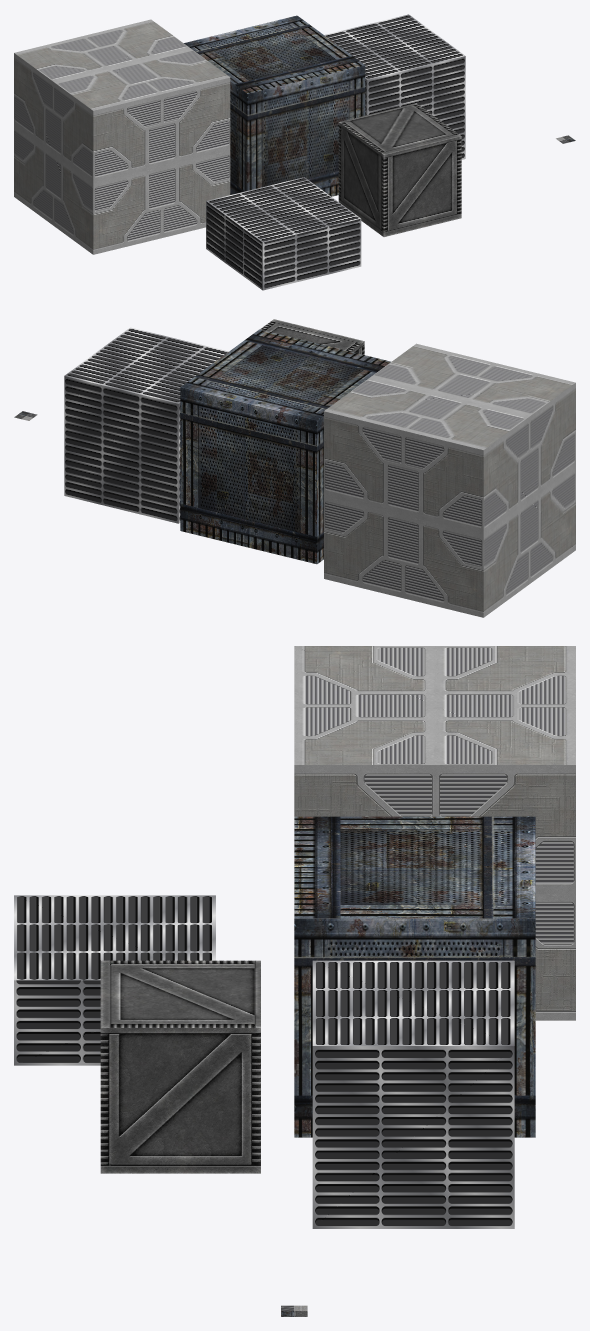
Rendered from Roof_Box_Props.fbx.
3 renders of one model, top to bottom at view 1: azimuth 30°, elevation 25°; view 2: azimuth 150°, elevation 25°; view 3: azimuth 270°, elevation 25°, orthographic. The views are drawn at different scales.
Parts seen in each view (by area): view 1: Roof01_Box, Roof02_Box, Roof03_Box, Roof05_Box, Roof04_Box; view 2: Roof01_Box, Roof02_Box, Roof04_Box, Roof03_Box; view 3: Roof01_Box, Roof04_Box, Roof02_Box, Roof03_Box, Roof05_Box.
Part boxes in pixels (x1=…): Roof01_Box: x1=14, y1=19, x2=230, y2=254; Roof02_Box: x1=184, y1=15, x2=365, y2=196; Roof03_Box: x1=338, y1=103, x2=461, y2=236; Roof05_Box: x1=206, y1=177, x2=361, y2=290; Roof04_Box: x1=324, y1=14, x2=465, y2=159; Roof01_Box: x1=324, y1=343, x2=575, y2=617; Roof02_Box: x1=180, y1=329, x2=391, y2=564; Roof04_Box: x1=64, y1=327, x2=228, y2=523; Roof03_Box: x1=260, y1=319, x2=364, y2=354; Roof01_Box: x1=294, y1=646, x2=575, y2=1020; Roof04_Box: x1=312, y1=960, x2=514, y2=1228; Roof02_Box: x1=294, y1=816, x2=535, y2=1137; Roof03_Box: x1=100, y1=960, x2=260, y2=1173; Roof05_Box: x1=14, y1=895, x2=215, y2=1065.
Size of the model in its own units: 7.38 by 2.12 by 4.22.
